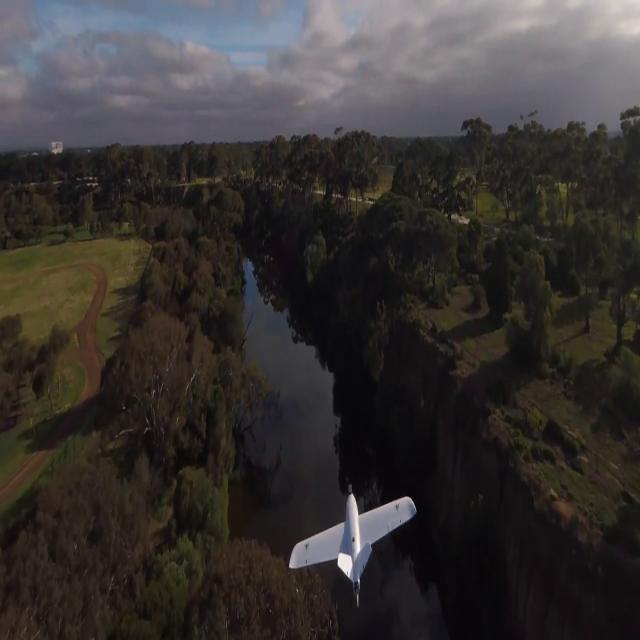iha: (321, 525, 383, 556)
